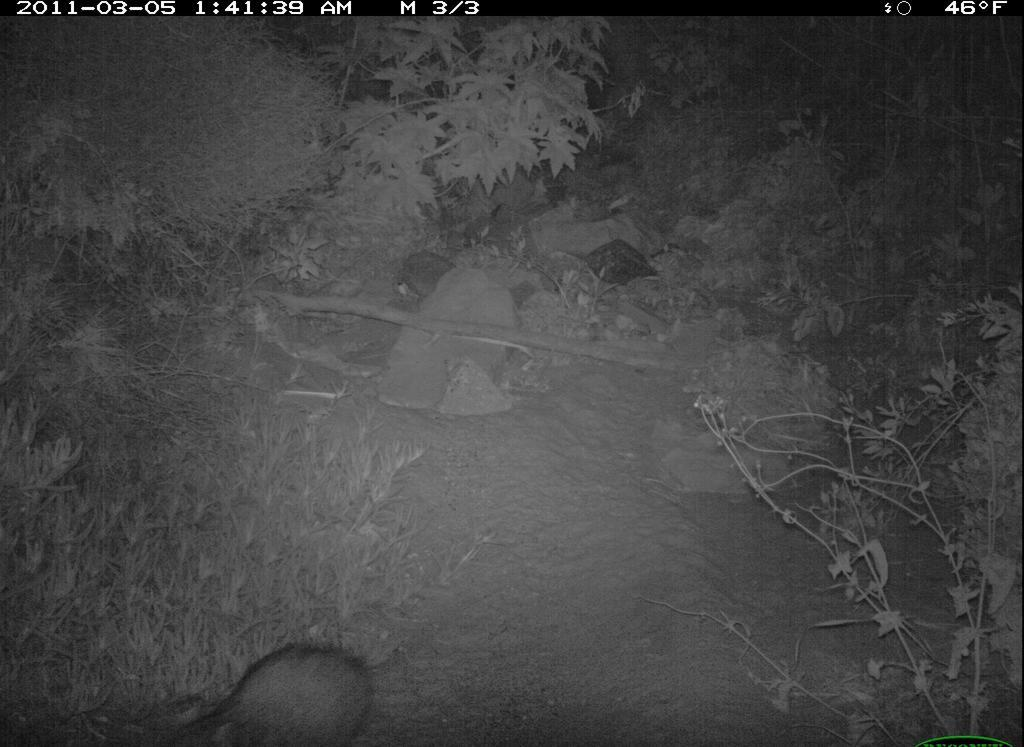raccoon: (175, 638, 381, 747)
